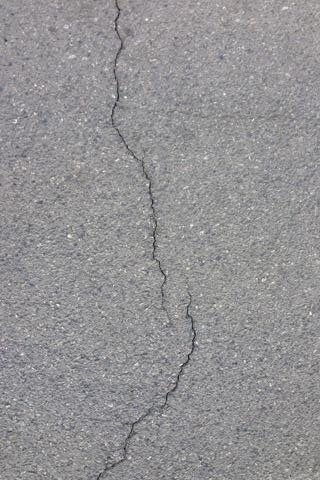A: (87, 1, 198, 480)
